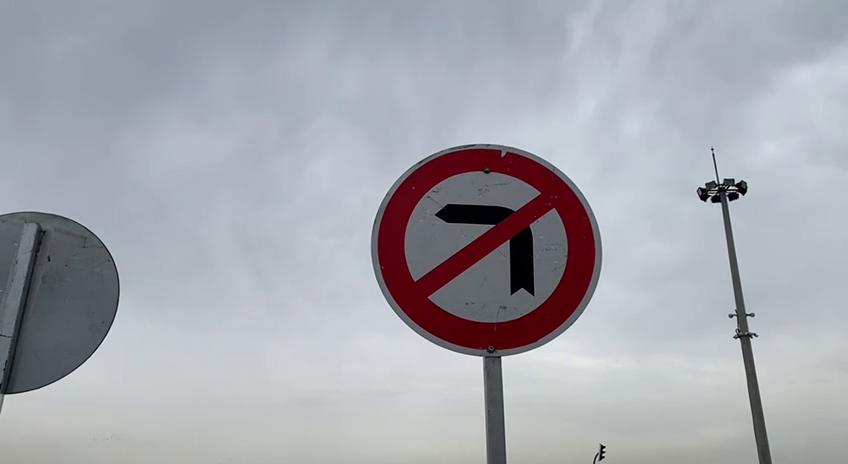noTurnLeft: (365, 139, 606, 362)
